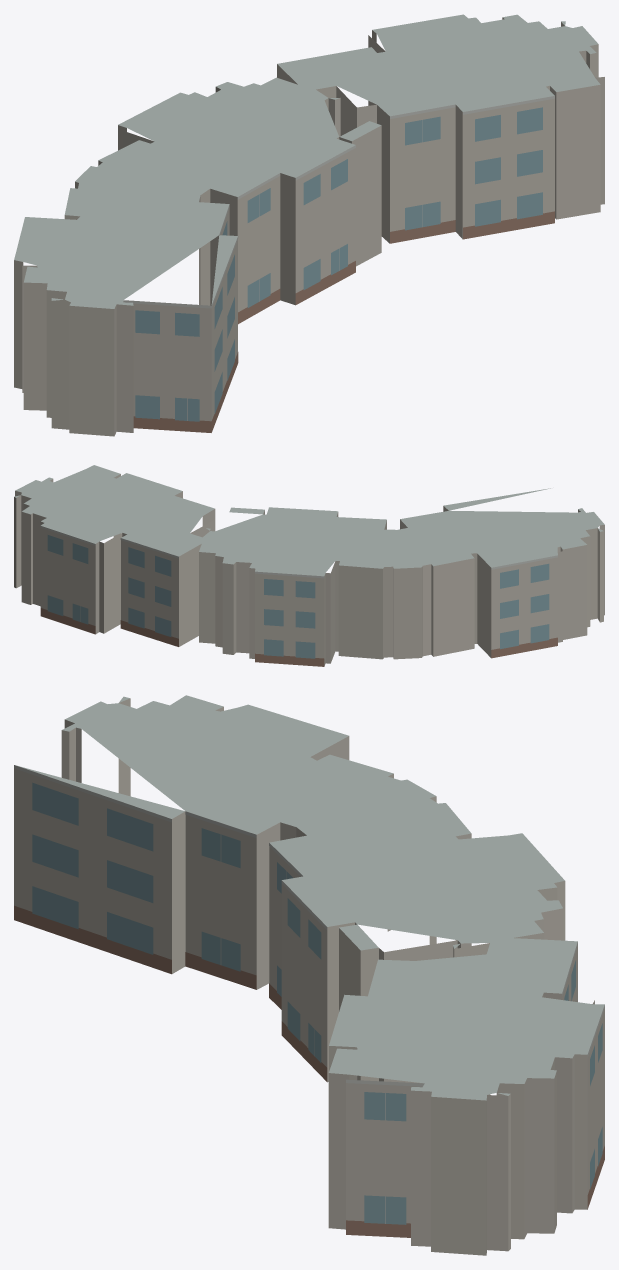
The model's file is survey-upis-32714019.glb.
The picture shows the model from 3 angles, top to bottom: view 1: azimuth 30°, elevation 25°; view 2: azimuth 150°, elevation 25°; view 3: azimuth 270°, elevation 25°; orthographic projection. The views are drawn at different scales.
Parts seen in each view (by area): view 1: survey-upis-32714019.tmp; view 2: survey-upis-32714019.tmp; view 3: survey-upis-32714019.tmp.
Part boxes in pixels (x1,y1,x2,y2): survey-upis-32714019.tmp: [14, 14, 604, 436]; survey-upis-32714019.tmp: [14, 465, 604, 666]; survey-upis-32714019.tmp: [14, 695, 604, 1255].
Bounding box in the file's own units: 61.67 × 11.01 × 38.
